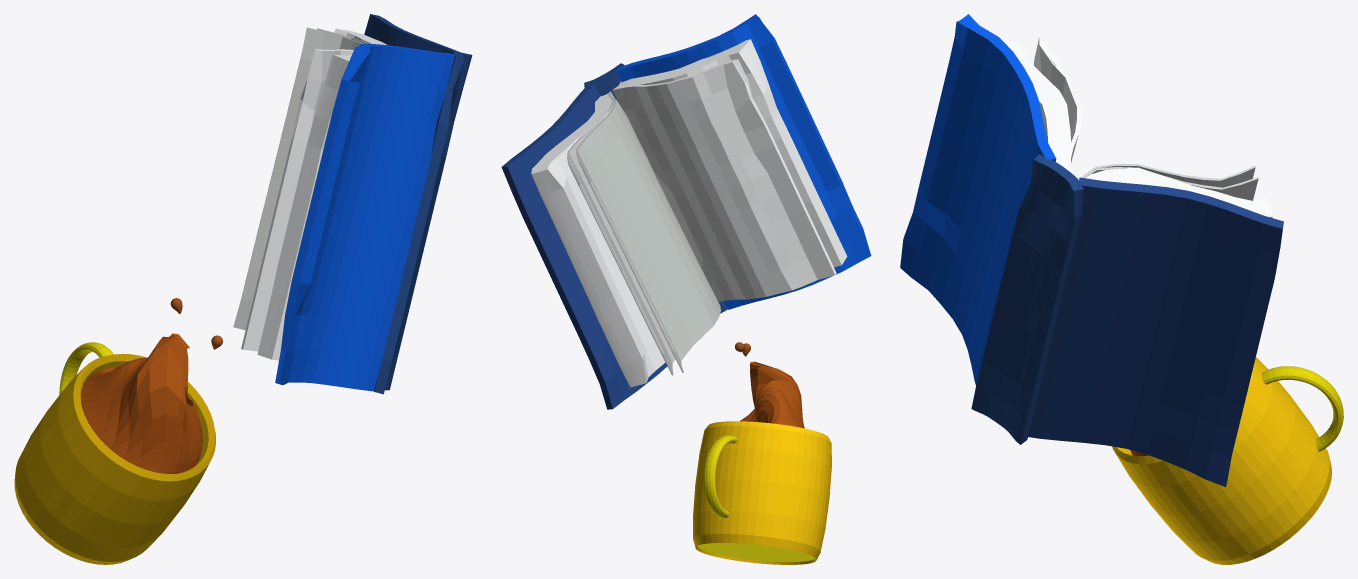
The model's file is coffee_book-8N4YigDf.glb.
3 views of the same model, side by side, from view 1: azimuth 30°, elevation 25°; view 2: azimuth 150°, elevation 25°; view 3: azimuth 270°, elevation 25° (orthographic). The views are drawn at different scales.
Visible parts, largest first — view 1: Sphere.002; view 2: Sphere.002; view 3: Sphere.002.
Part boxes in pixels (left/top/right/bottom): Sphere.002: left=14, top=14, right=472, bottom=564; Sphere.002: left=501, top=14, right=871, bottom=564; Sphere.002: left=900, top=14, right=1343, bottom=564.
Bounding box in the file's own units: 0.2571 × 0.3743 × 0.2499.
Materials: 1 (1 with a texture image).
